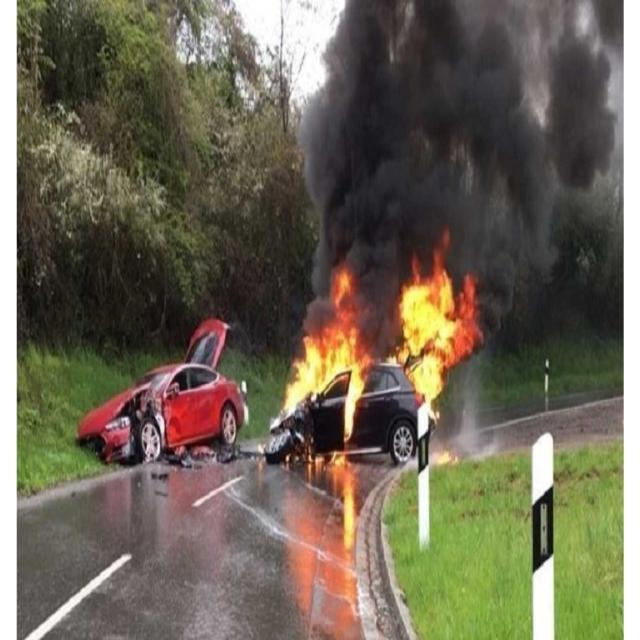Fire: (284, 268, 380, 448), (397, 252, 480, 426)
Smoke: (303, 0, 627, 242)
